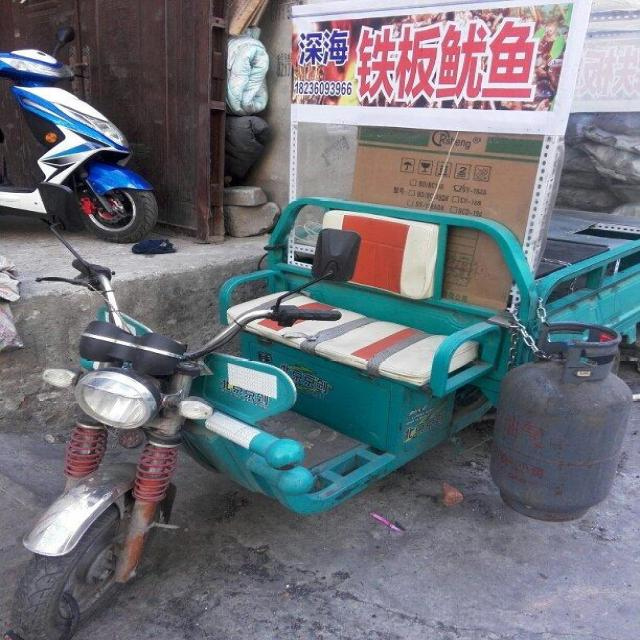motorbike: (1, 27, 157, 240)
tricycle: (13, 193, 634, 639)
